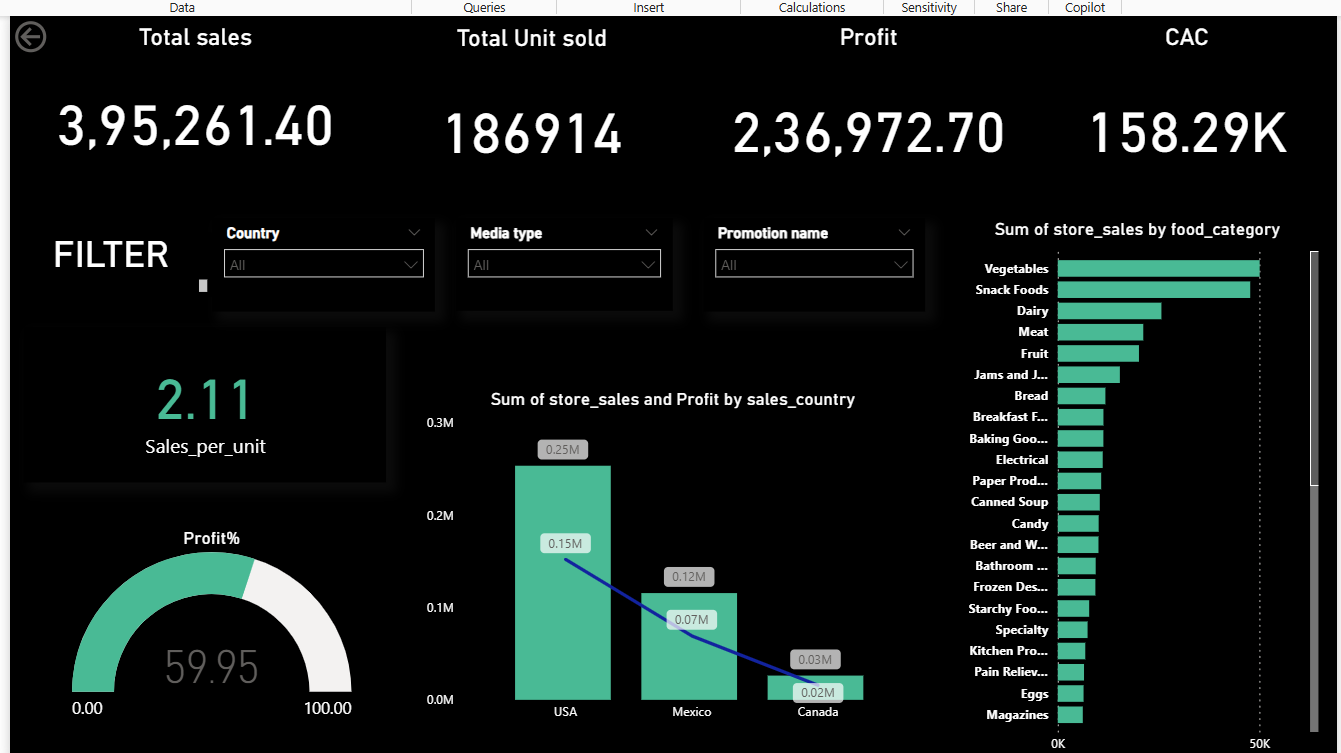

The page's visual inventory and layout, read from the dashboard file:
{"tool":"powerbi","page":{"name":"Sales","canvas":[1280,720],"ordinal":0},"visuals":[{"type":"card","title":"Total sales","fields":{"Values":["media prediction and its cost.Total_sales"]},"box":[13.3,6,331.8,158],"z":0},{"type":"card","title":"Total Unit sold","fields":{"Values":["media prediction and its cost.Total_unit_sold"]},"box":[349.9,7.2,307.6,171.3],"z":1000},{"type":"card","title":"CAC","fields":{"Values":["media prediction and its cost.total_cost"]},"box":[991.7,6,288.3,172.5],"z":2000},{"type":"card","fields":{"Values":["media prediction and its cost.Avfg_sales"]},"box":[13.3,300.4,349.9,149.6],"z":3000},{"type":"card","title":"Profit","fields":{"Values":["media prediction and its cost.Profit"]},"box":[639.4,6,378.8,172.5],"z":4000},{"type":"actionButton","box":[0,0,100,40],"z":5000},{"type":"lineStackedColumnComboChart","fields":{"Category":["media prediction and its cost.sales_country"],"Y":["Sum(media prediction and its cost.store_sales)"],"Y2":["media prediction and its cost.Profit"]},"box":[396.6,359.5,485.8,330.7],"z":6000},{"type":"clusteredBarChart","fields":{"Category":["media prediction and its cost.food_category"],"Y":["Sum(media prediction and its cost.store_sales)"]},"box":[908.4,195.4,359.5,524.8],"z":7000},{"type":"gauge","fields":{"Y":["media prediction and its cost.Profit%"]},"box":[13.5,494,363.2,195.7],"z":8000},{"type":"slicer","fields":{"Values":["media prediction and its cost.sales_country","media prediction and its cost.store_city"]},"box":[195.4,195.4,214.7,89.3],"z":9000},{"type":"textbox","title":"FILTER","box":[0,208.7,195.4,62.7],"z":10000},{"type":"slicer","fields":{"Values":["media prediction and its cost.media_type"]},"box":[430.9,194.9,208.6,89.2],"z":11000},{"type":"slicer","fields":{"Values":["media prediction and its cost.promotion_name"]},"box":[669.6,195.4,213.5,89.3],"z":12000}]}

Visuals, with their boxes on the page's 1280x720 design canvas (x1, y1, x2, y2). These are canvas units, not pixel positions in the 1341x753 screenshot, which may show the page scaled, cropped or inside an application window:
"Total sales" card: {"left": 13, "top": 6, "right": 345, "bottom": 164}
"Total Unit sold" card: {"left": 350, "top": 7, "right": 658, "bottom": 178}
"CAC" card: {"left": 992, "top": 6, "right": 1280, "bottom": 178}
card - media prediction and its cost.Avfg_sales: {"left": 13, "top": 300, "right": 363, "bottom": 450}
"Profit" card: {"left": 639, "top": 6, "right": 1018, "bottom": 178}
actionButton: {"left": 0, "top": 0, "right": 100, "bottom": 40}
lineStackedColumnComboChart - media prediction and its cost.sales_country x Sum(media prediction and its cost.store_sales): {"left": 397, "top": 360, "right": 882, "bottom": 690}
clusteredBarChart - media prediction and its cost.food_category x Sum(media prediction and its cost.store_sales): {"left": 908, "top": 195, "right": 1268, "bottom": 720}
gauge - media prediction and its cost.Profit%: {"left": 14, "top": 494, "right": 377, "bottom": 690}
slicer - media prediction and its cost.sales_country x media prediction and its cost.store_city: {"left": 195, "top": 195, "right": 410, "bottom": 285}
"FILTER" textbox: {"left": 0, "top": 209, "right": 195, "bottom": 271}
slicer - media prediction and its cost.media_type: {"left": 431, "top": 195, "right": 640, "bottom": 284}
slicer - media prediction and its cost.promotion_name: {"left": 670, "top": 195, "right": 883, "bottom": 285}
